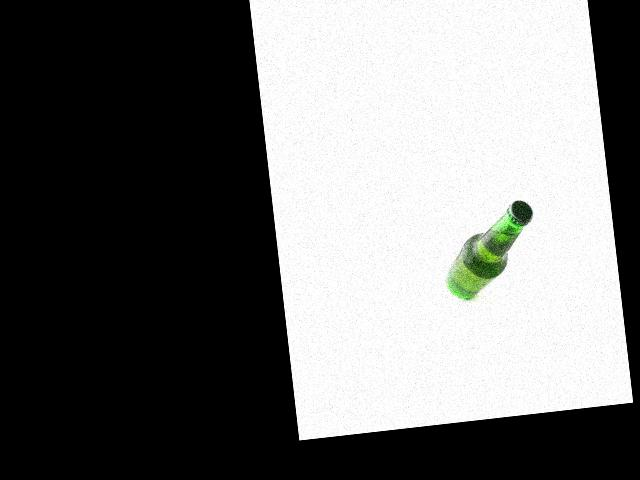beer: (437, 199, 542, 302)
